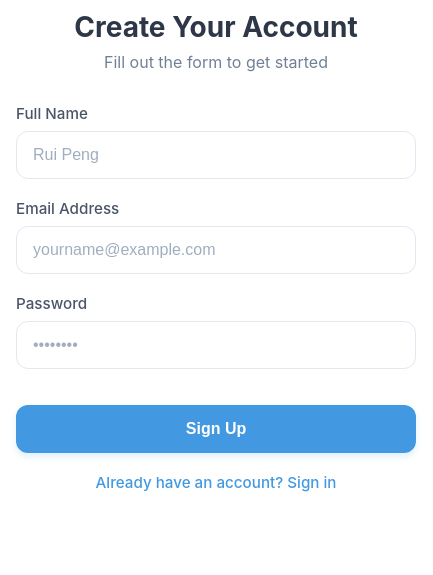
Test case: SignUp Component › testing when fail to handleSubmit and display errors with the empty error message in the response
The image size is (433, 575).
Type "test@gmail.com" into the field with placeholder "yourname@example.com".
click(216, 250); type("test@gmail.com")  # box [16, 226, 416, 274]
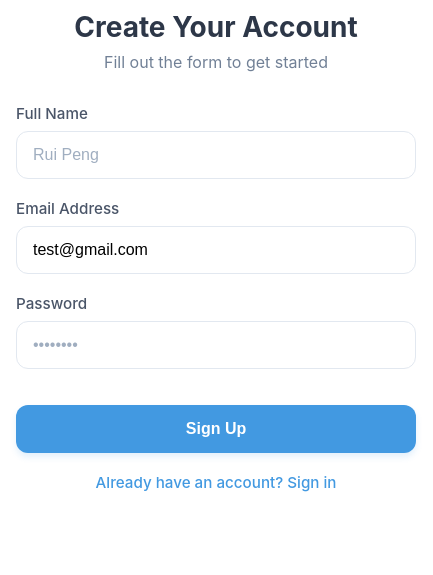
Type "123456" into the password field with placeholder "••••••••".
click(216, 345); type("123456")  # box [16, 321, 416, 369]
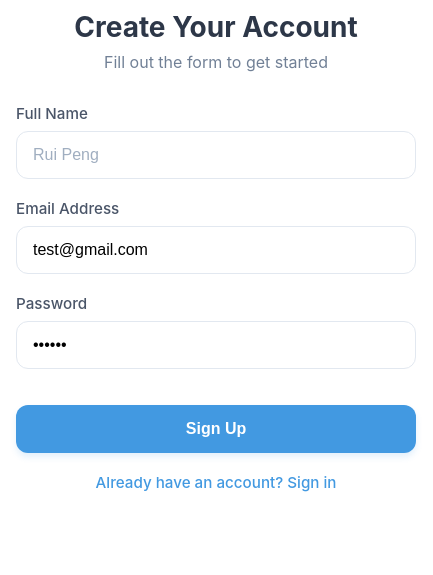
Type "Alex Green" into the field with placeholder "Rui Peng".
click(216, 155); type("Alex Green")  # box [16, 131, 416, 179]
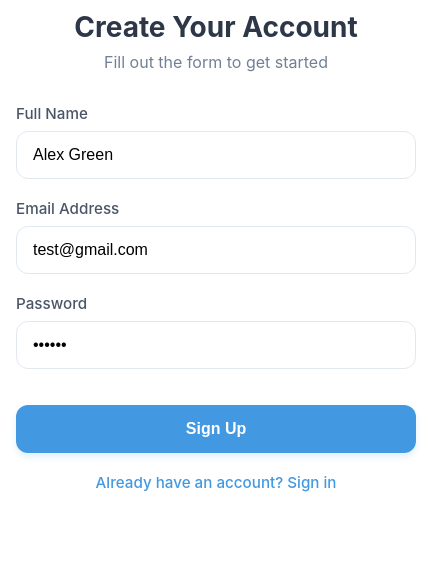
Click the button "Sign Up".
click(216, 429)  # box [16, 405, 416, 453]
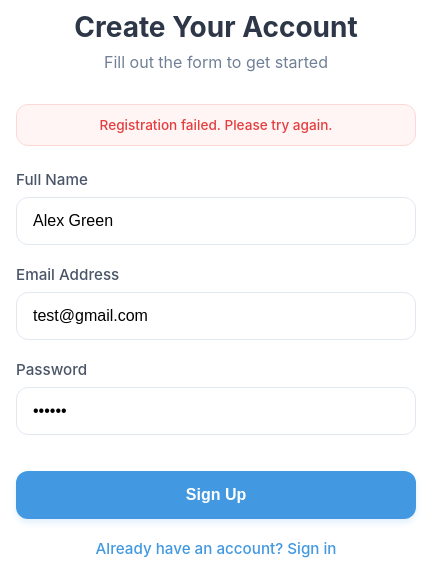
Expected: the text "Registration failed. Please try again." is shown, [16, 104, 416, 146]
